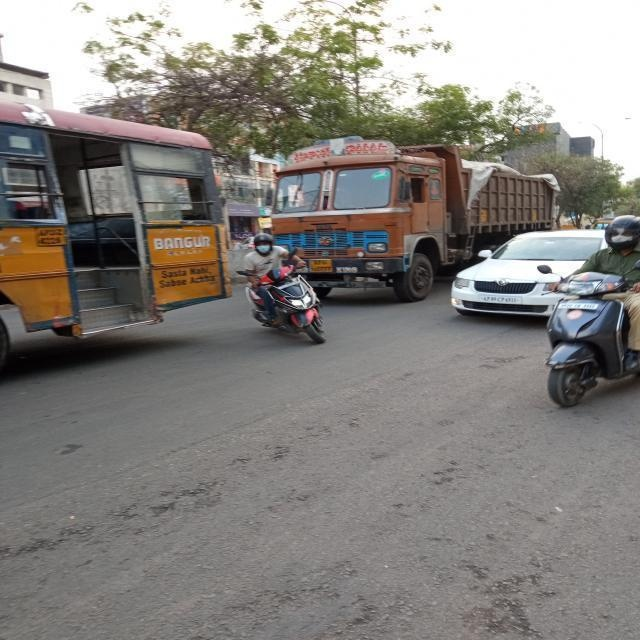Car: (443, 233, 624, 319)
Truck: (273, 150, 451, 304)
